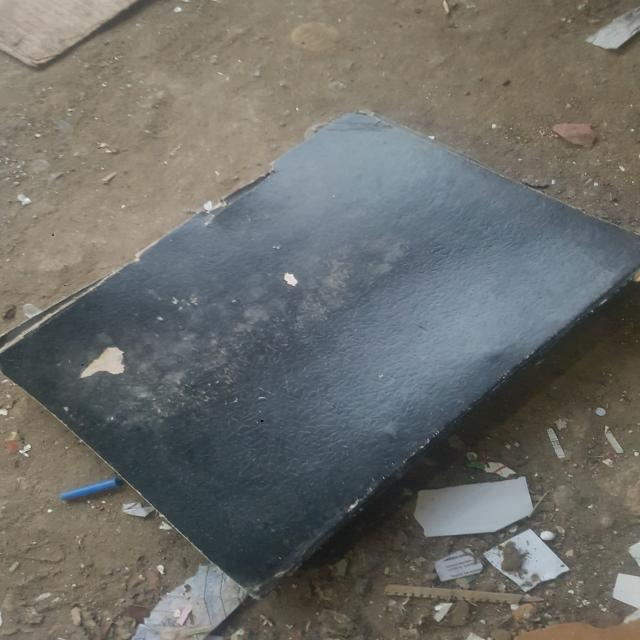electronic: (0, 103, 640, 604), (0, 0, 138, 68), (132, 564, 246, 640), (412, 476, 534, 537), (482, 528, 570, 592), (585, 7, 639, 50), (434, 548, 483, 582), (552, 122, 596, 148), (612, 573, 639, 610), (628, 542, 640, 568)
